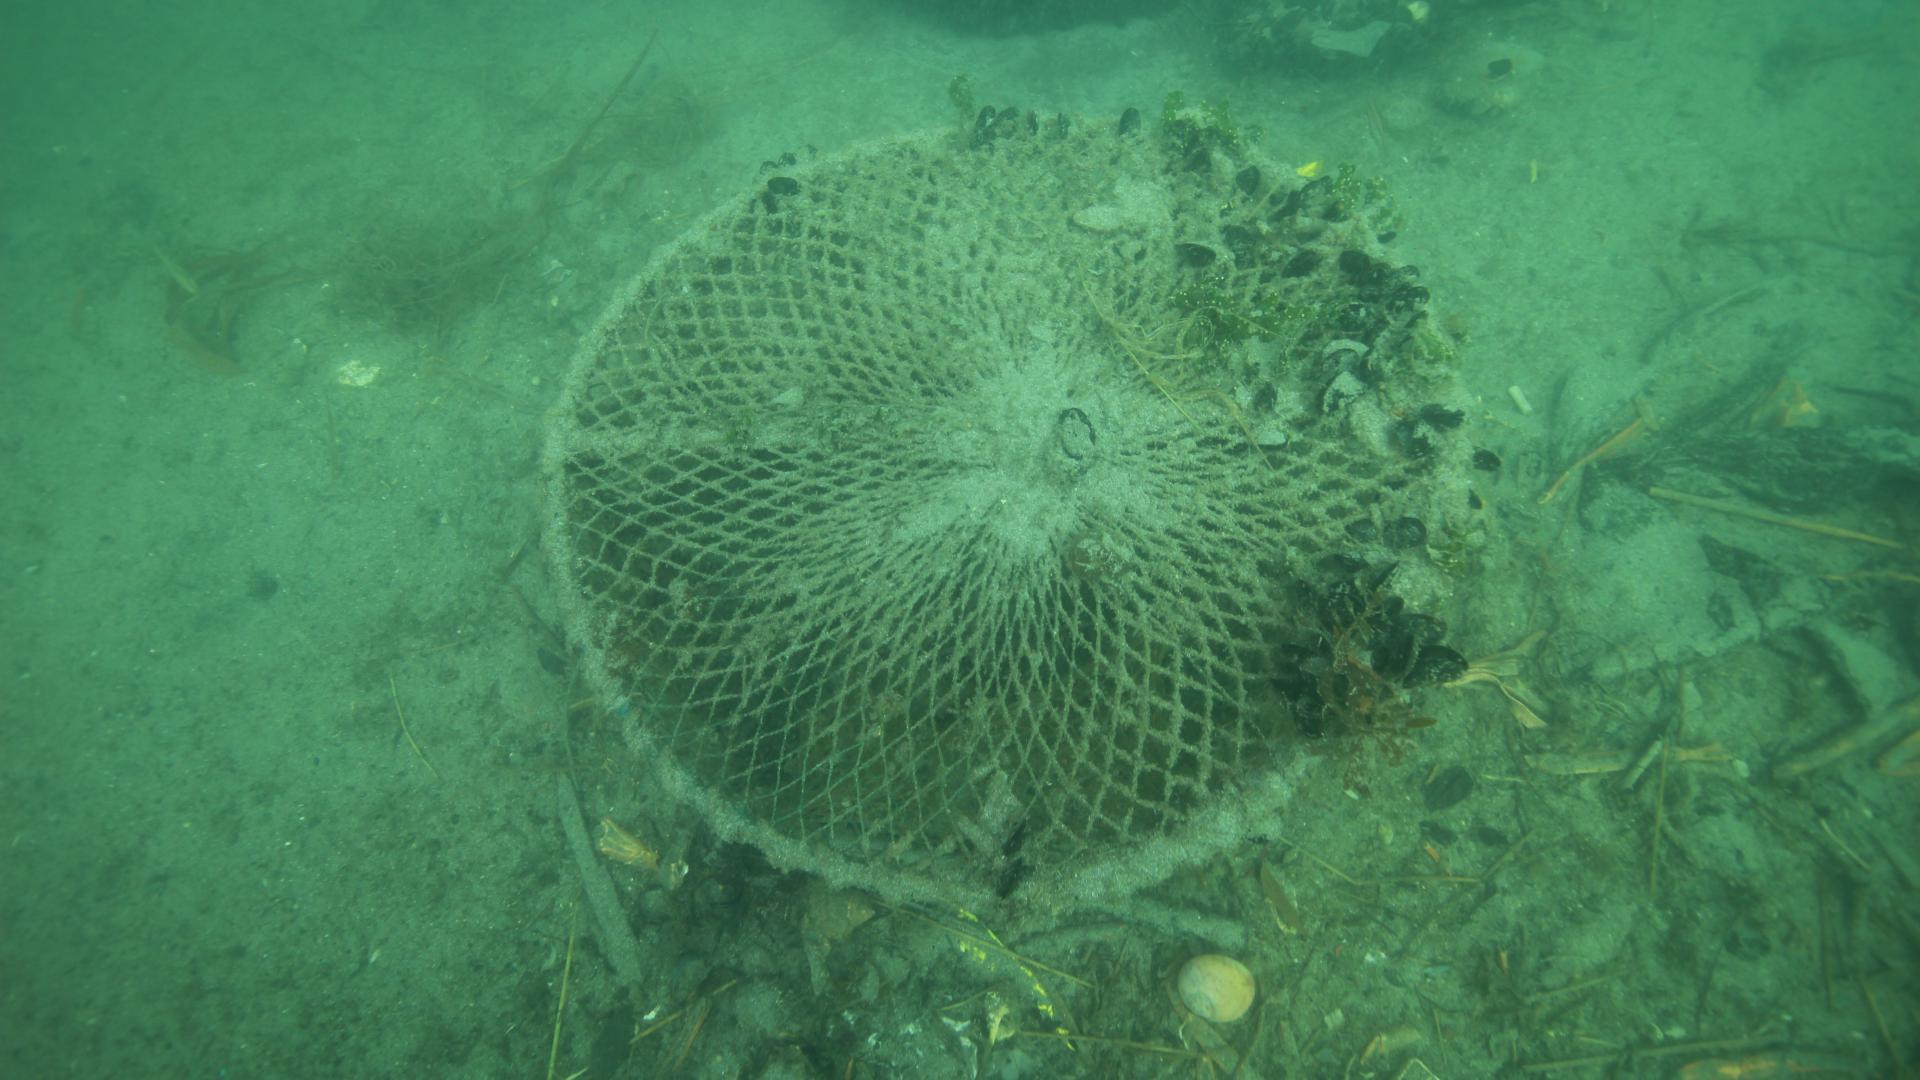circular fish trap: (542, 112, 1480, 915)
